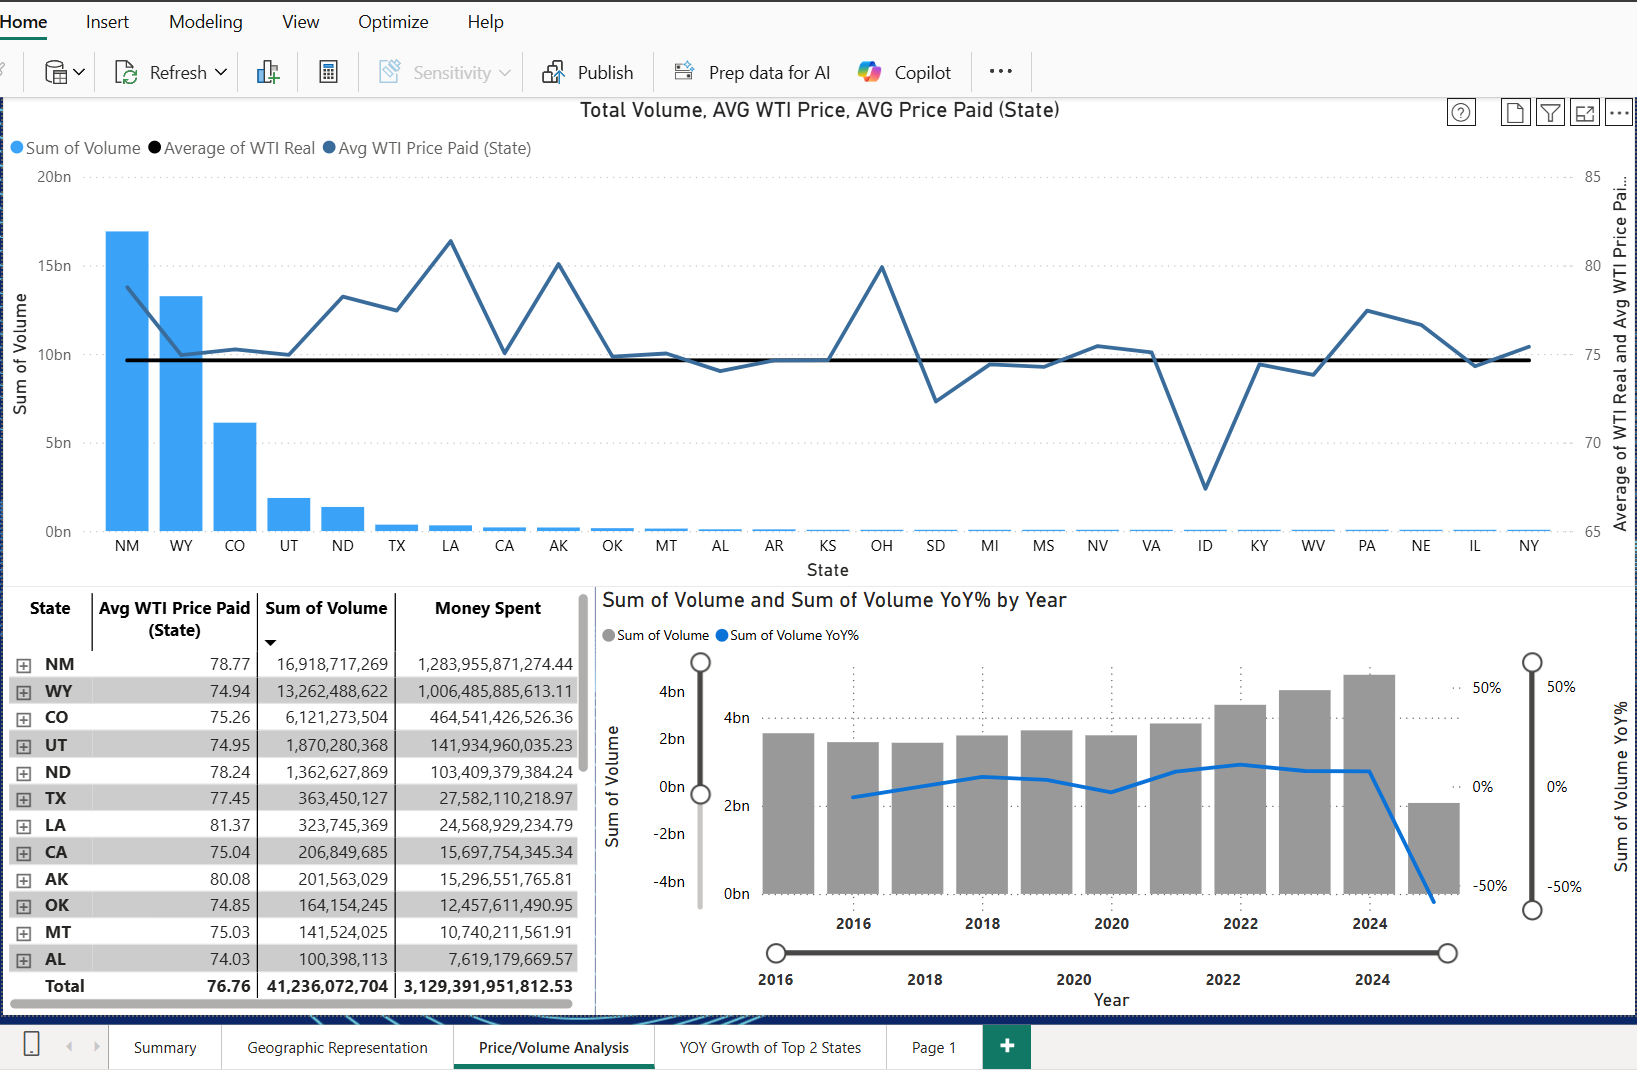

What the dashboard file says about the page in this screenshot:
{"tool":"powerbi","page":{"name":"Price/Volume Analysis","canvas":[1280,720],"ordinal":2},"visuals":[{"type":"lineClusteredColumnComboChart","title":"Total Volume, AVG WTI Price, AVG Price Paid  (State)","fields":{"Category":["OGORBcsv.State"],"Y":["Sum(OGORBcsv.Volume)"],"Y2":["Avg(Oil Prices.WTI Real)","OGORBcsv.Avg WTI Price Paid (State)"]},"box":[0,0,1280,384],"z":0},{"type":"lineStackedColumnComboChart","fields":{"Category":["Oil Prices.Date.Variation.Date Hierarchy.Year","Oil Prices.Date.Variation.Date Hierarchy.Month"],"Y":["Sum(OGORBcsv.Volume)"],"Y2":["OGORBcsv.Sum of Volume YoY%"]},"box":[464,384,816,336],"z":1000},{"type":"pivotTable","fields":{"Rows":["OGORBcsv.State","Oil Prices.Date.Variation.Date Hierarchy.Year","Oil Prices.Date.Variation.Date Hierarchy.Month"],"Values":["OGORBcsv.Avg WTI Price Paid (State)","Sum(OGORBcsv.Volume)","OGORBcsv (2).Money Spent"]},"box":[0,384,464,336],"z":3000},{"type":"actionButton","box":[0,0,100,40],"z":5000}]}

Visuals, with their boxes on the page's 1280x720 design canvas (x1, y1, x2, y2). These are canvas units, not pixel positions in the 1637x1070 screenshot, which may show the page scaled, cropped or inside an application window:
"Total Volume, AVG WTI Price, AVG Price Paid  (State)" lineClusteredColumnComboChart: 0/0/1280/384
lineStackedColumnComboChart - Oil Prices.Date.Variation.Date Hierarchy.Year x Oil Prices.Date.Variation.Date Hierarchy.Month: 464/384/1280/720
pivotTable - OGORBcsv.State x Oil Prices.Date.Variation.Date Hierarchy.Year: 0/384/464/720
actionButton: 0/0/100/40
